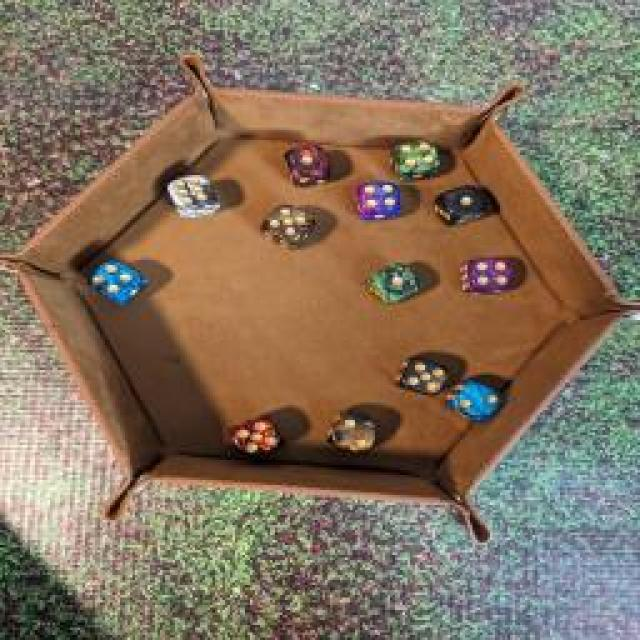dice_1: (354, 255, 424, 310), (275, 139, 337, 186), (434, 179, 494, 226)
dice_2: (322, 410, 392, 462), (438, 378, 514, 420)
dice_4: (82, 256, 158, 309), (456, 252, 516, 302), (354, 176, 398, 224), (392, 138, 438, 180)
dice_5: (389, 355, 456, 403), (255, 202, 315, 248), (222, 415, 286, 455)
dice_6: (162, 168, 222, 218)
